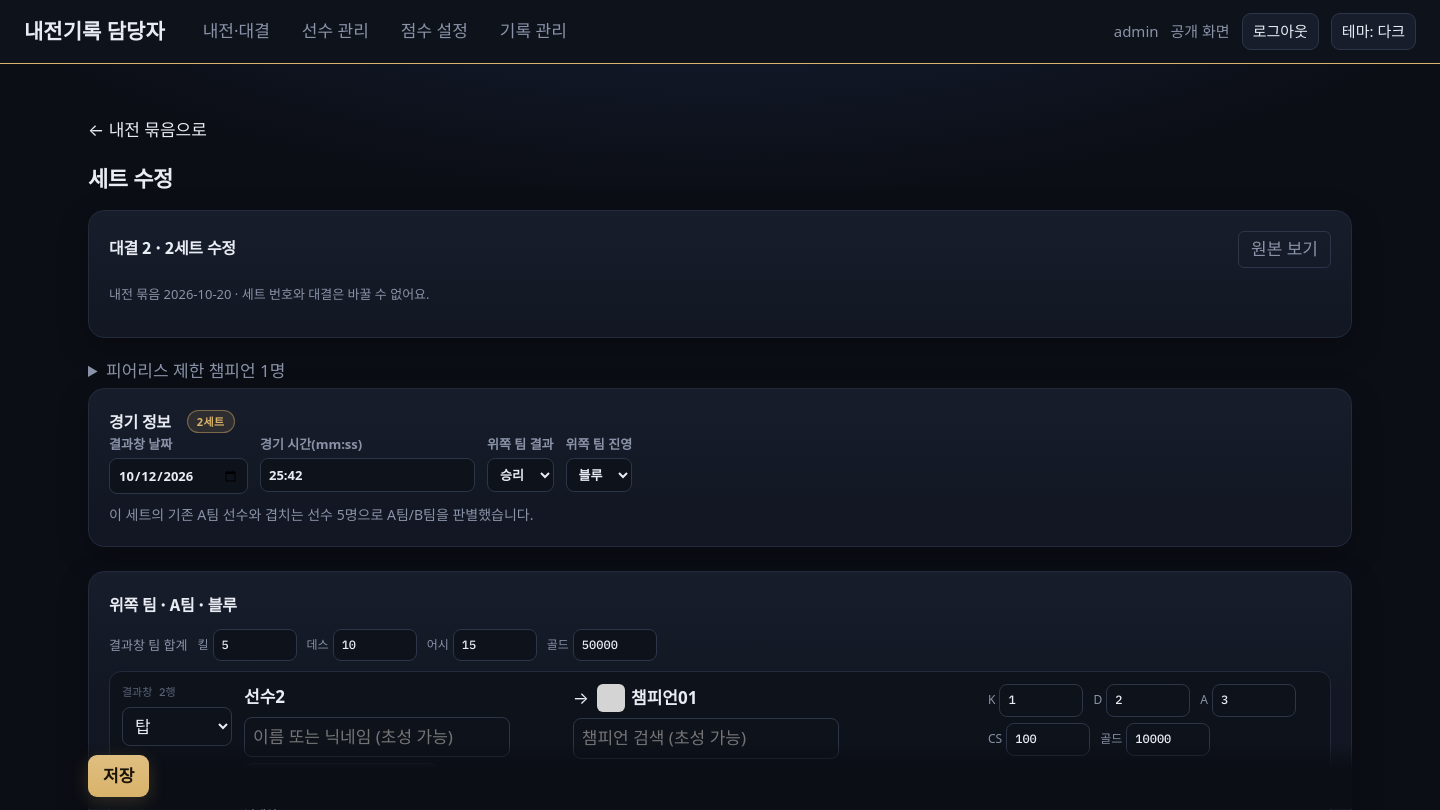
Test: SetEditPage › 경기 시간을 비우면 모름 안내를 보이고, 검사에 빈 시간과 expectedUpdatedAt을 보낸다. 뒤 세트 충돌은 링크로 보여 준다
Clear the field labelled "경기 시간(mm:ss)" at point(368, 475), box x1=260 y1=458 x2=475 y2=492
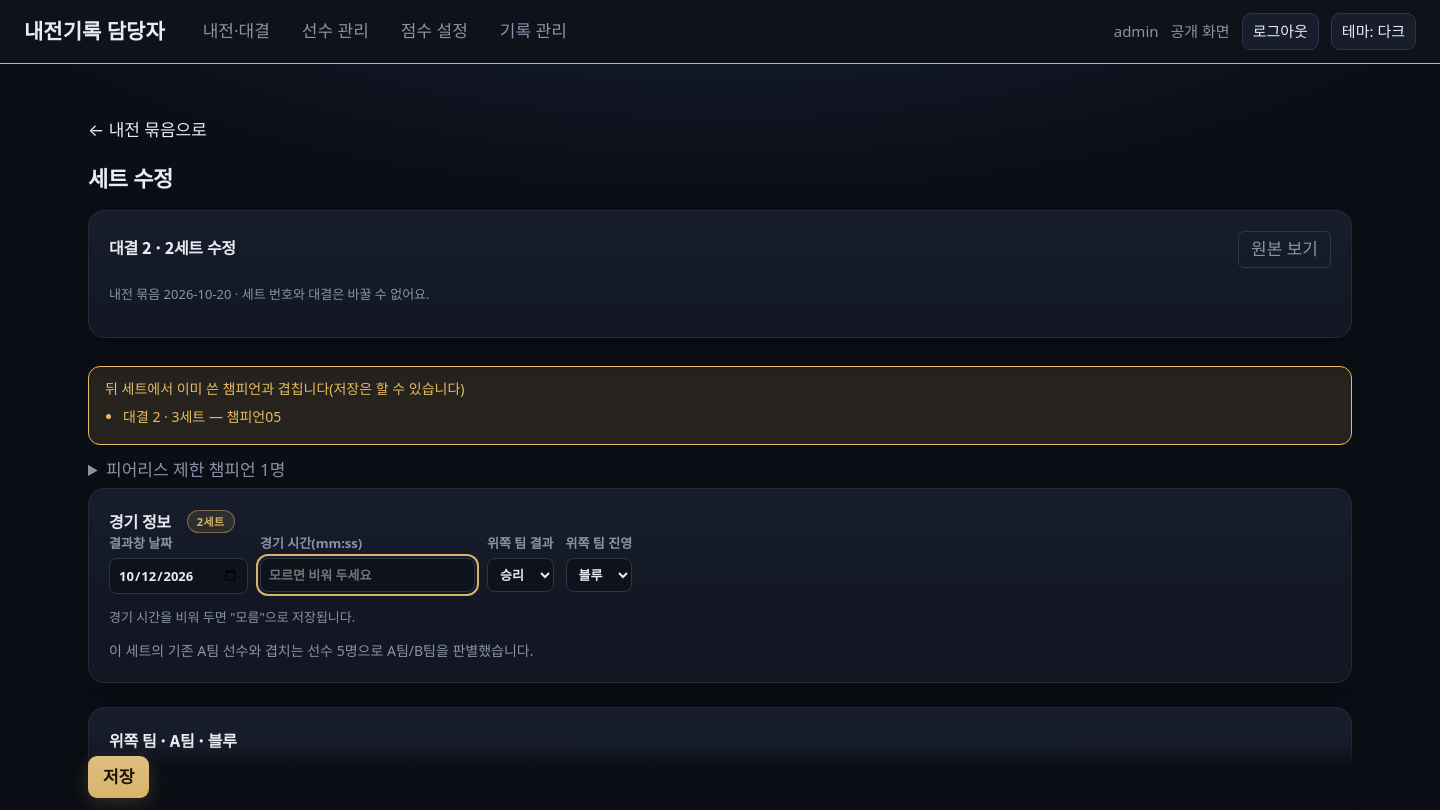
Expected: the text "경기 시간을 비워 두면 \"모름\"으로 저장됩니다." is shown, x1=109 y1=608 x2=355 y2=626
Expected: the message named "뒤 세트 피어리스 충돌" shows "챔피언05", x1=226 y1=407 x2=281 y2=426
